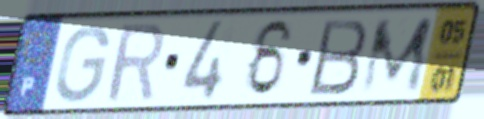4: (180, 17, 227, 103)
6: (242, 17, 295, 101)
B: (306, 17, 371, 99)
G: (52, 22, 113, 106)
M: (356, 14, 437, 98)
R: (104, 20, 167, 106)
